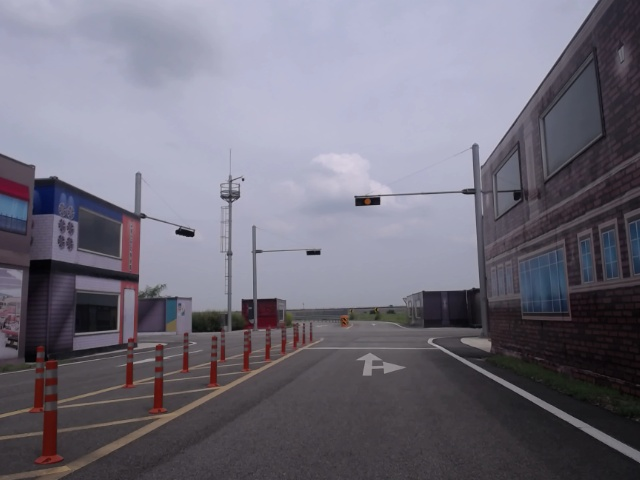orange_3: (354, 196, 381, 206)
